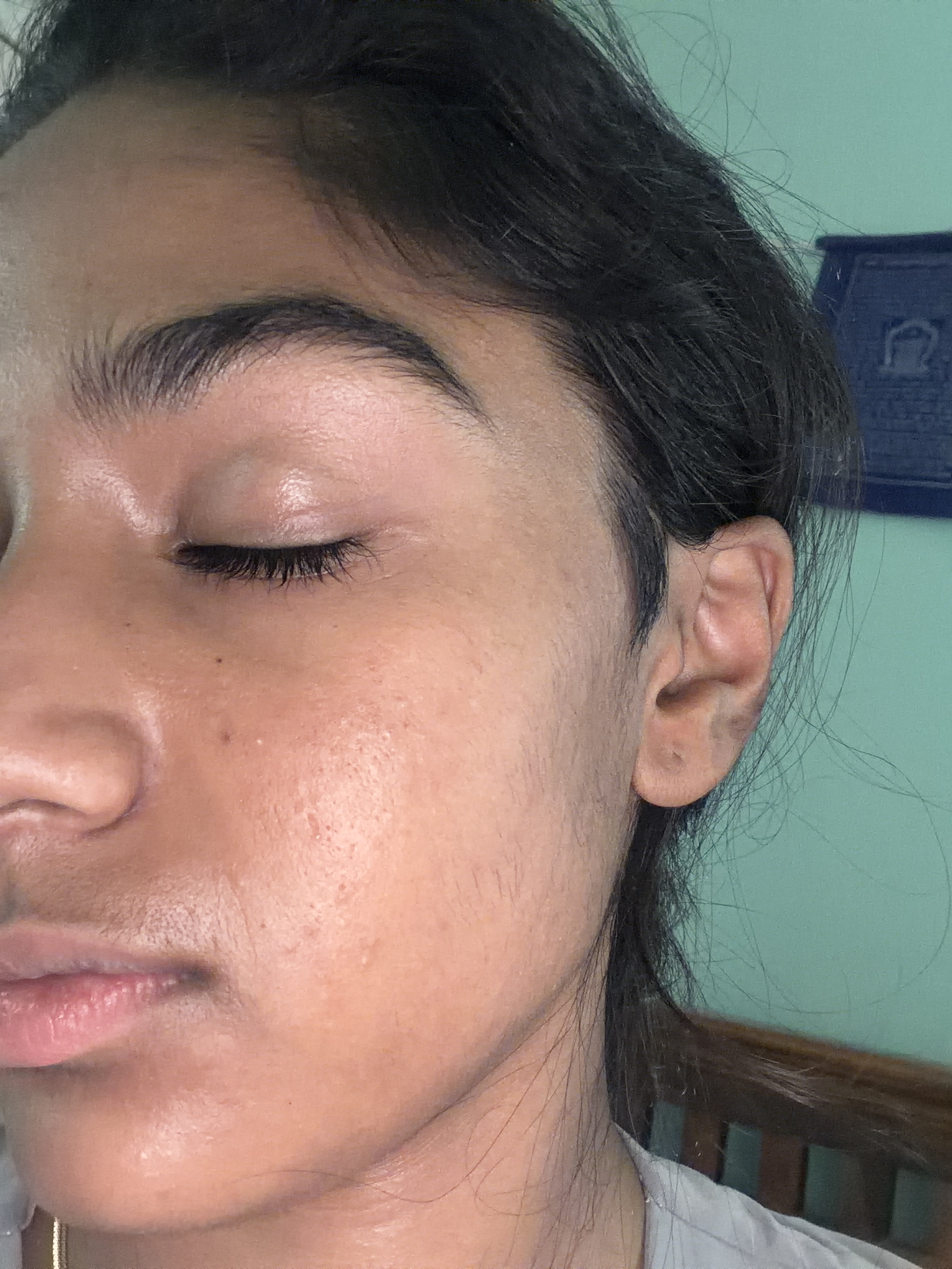closed_comedone: (5, 324, 68, 401), (154, 676, 196, 722), (123, 652, 154, 709), (136, 1150, 150, 1163), (368, 938, 380, 950), (338, 918, 348, 930), (237, 880, 247, 888), (385, 730, 392, 737), (170, 1183, 177, 1190)
papule: (304, 927, 314, 939), (336, 893, 348, 902)
pustule: (361, 954, 373, 966), (255, 739, 263, 745), (287, 948, 295, 953), (315, 833, 320, 840)
